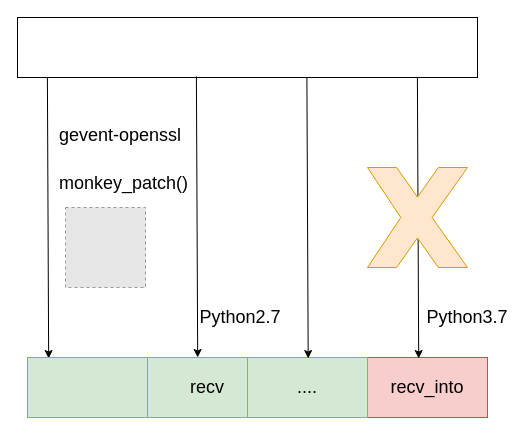
The diagram is 525 pixels wide and 435 high, and some of its shapes have lost their labels. Grey dashed boxes stand in for pictures. Each missing label, with the centre of its shape:
"grequests" goes at [247,47].
"send" goes at [87,387].
